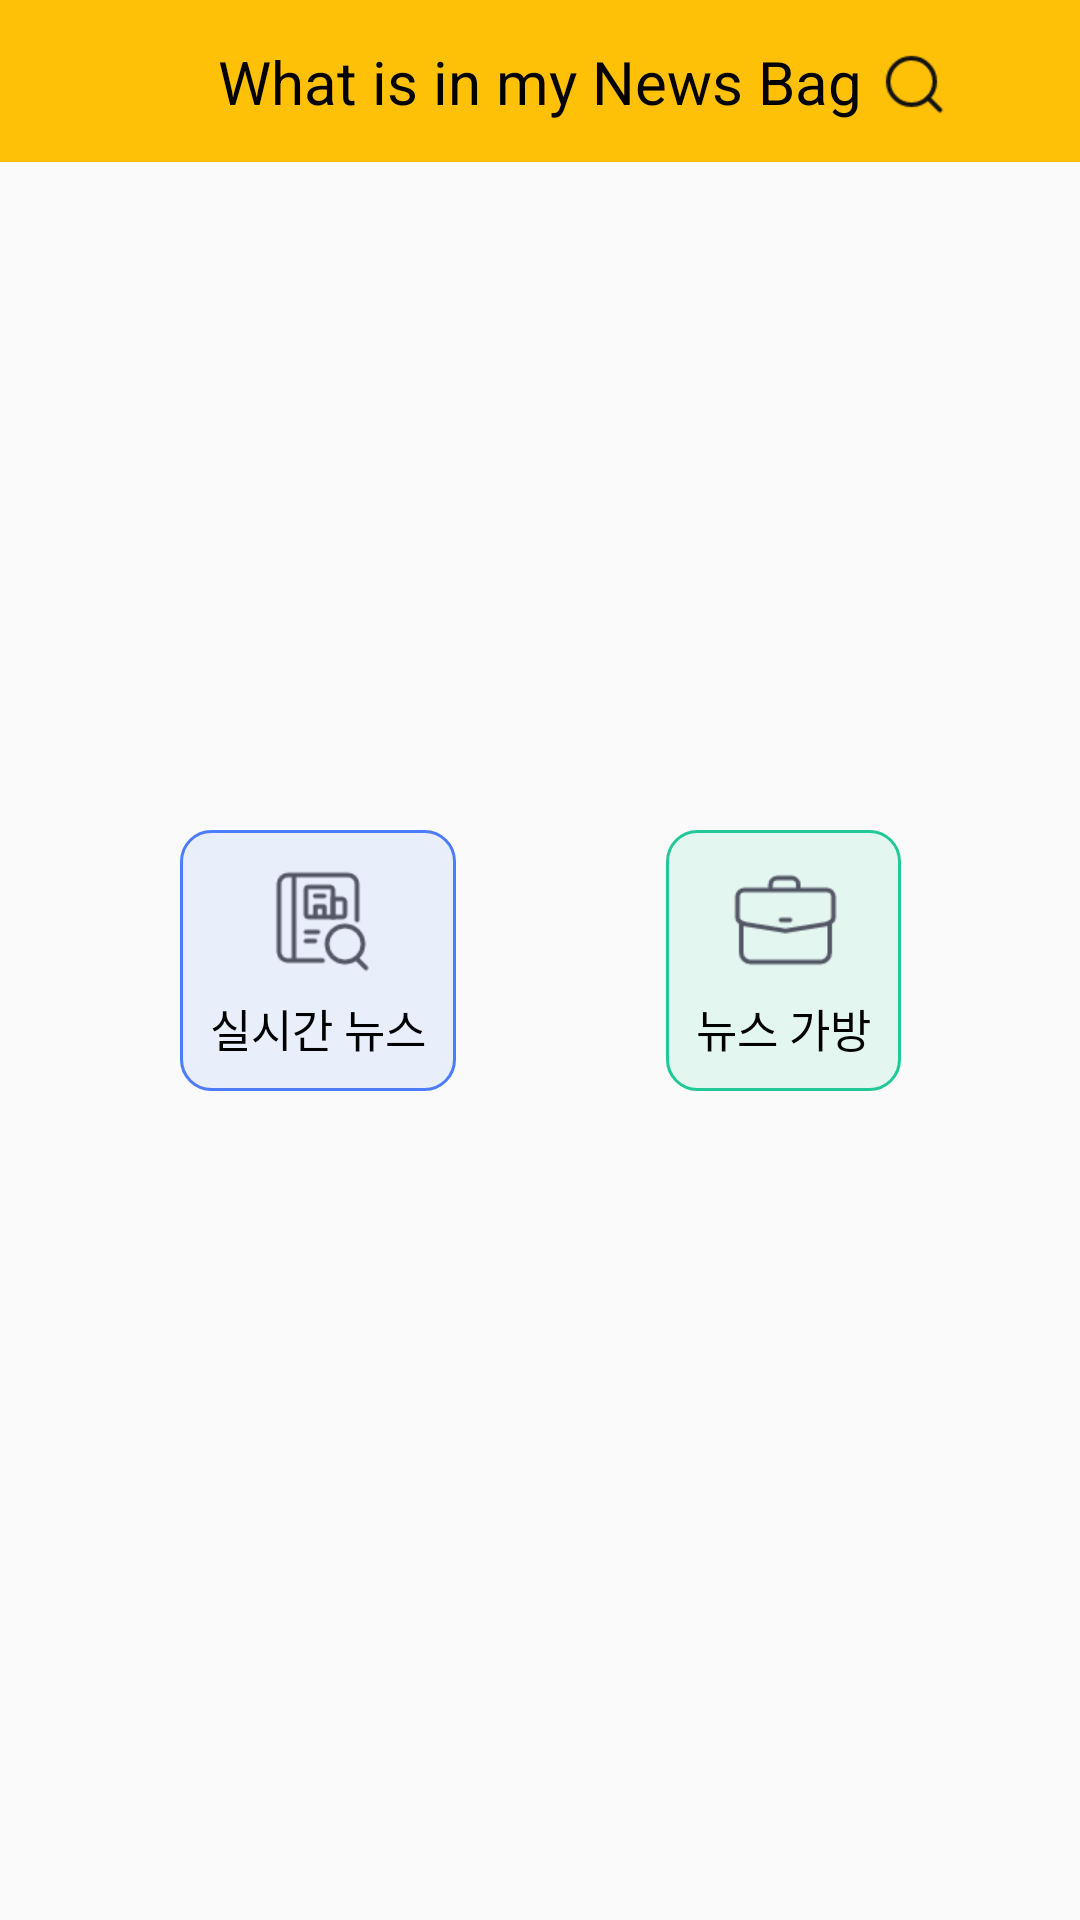

Screen size 1080x1920. Icon name, then its center in pixels as (x,y):
news bag: (785,920)
news list: (322,921)
search br none: (914,84)
